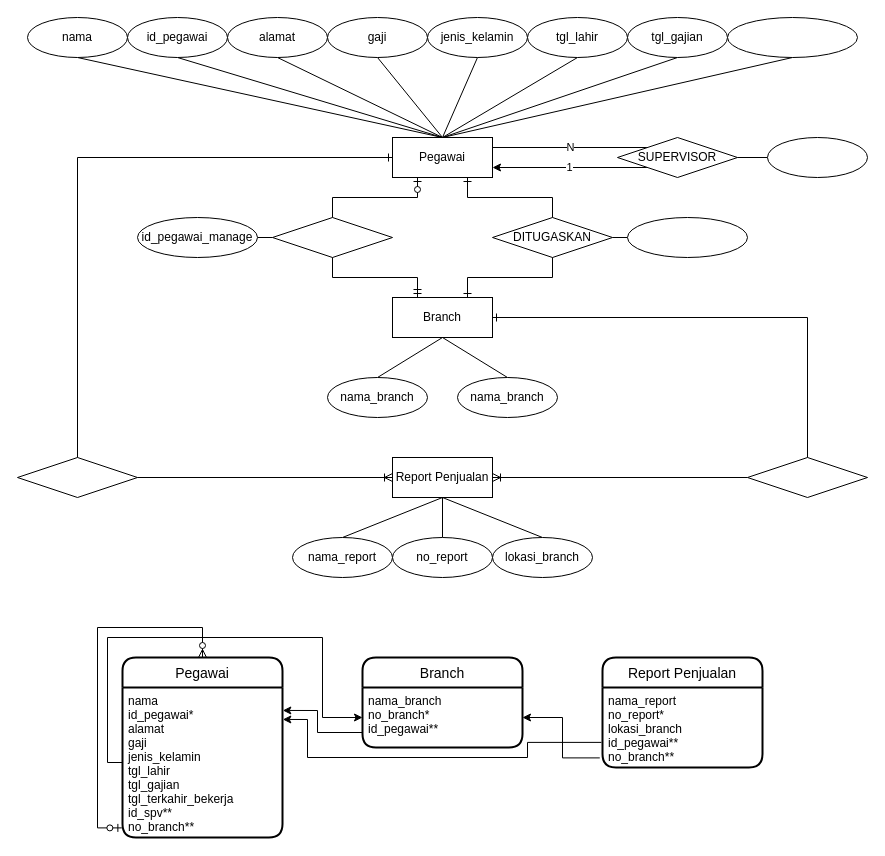
This 885x856 diagram has some shape labels left out. The shapes that lost their labels are listed below. From the top down, each one's box as (x1, y1, x2, y2) in pixels, then its label:
(726, 16, 858, 58): tgl_terakhir_bekerja
(766, 136, 868, 178): id_spvisor
(272, 216, 392, 258): MEMANAGE
(626, 216, 748, 258): jamKerja_pegawai
(16, 456, 138, 498): MEMBUAT
(746, 456, 868, 498): MENGONTROL
